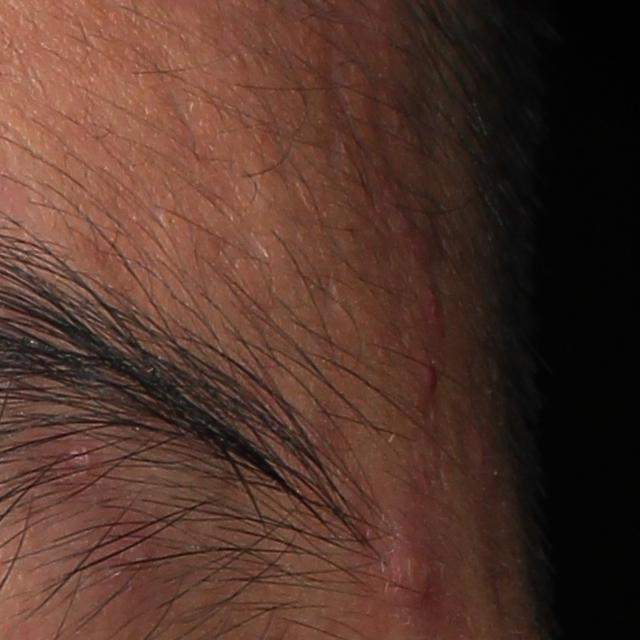papule: (369, 520, 453, 629), (48, 440, 108, 487), (408, 278, 444, 333), (409, 346, 438, 409)
